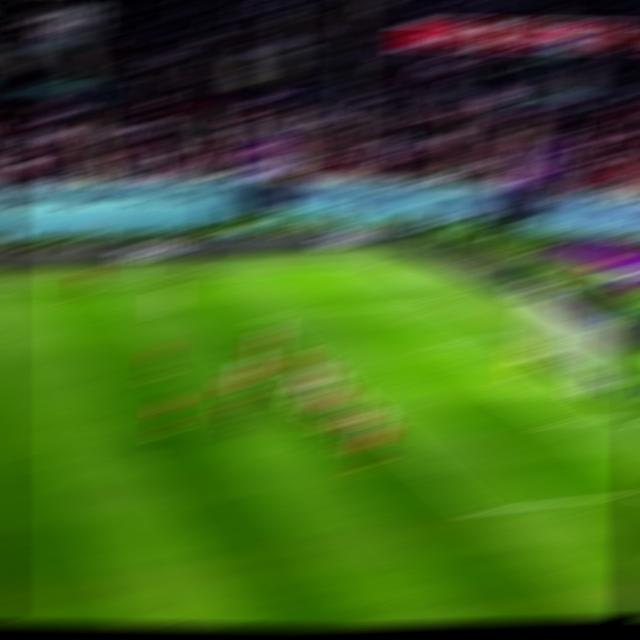bigarea_bottom_inner: (460, 502, 493, 522)
bigarea_top_inner: (251, 313, 275, 322)
bigarea_top_outter: (425, 298, 448, 303)
bottom_arc_area_intersection: (375, 425, 400, 433)
corner: (365, 264, 388, 266)
smallarea_bottom_inner: (538, 417, 565, 429)
smallarea_bottom_outter: (610, 410, 637, 421)
smallarea_top_inner: (424, 339, 450, 348)
smallarea_top_outter: (481, 333, 506, 341)
